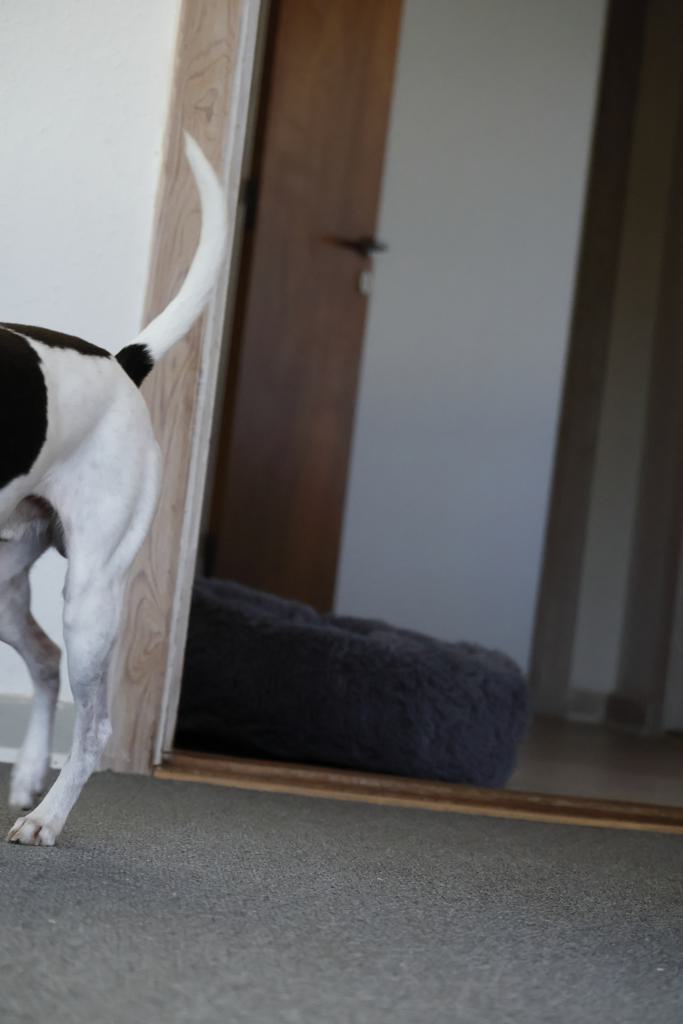Dog: (0, 102, 245, 873)
